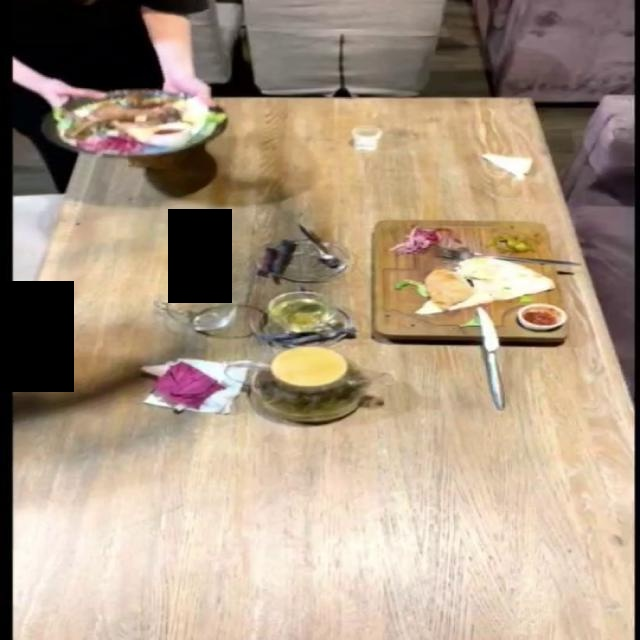meat: (374, 216, 563, 343), (54, 90, 227, 156)
tea: (231, 339, 398, 425)
